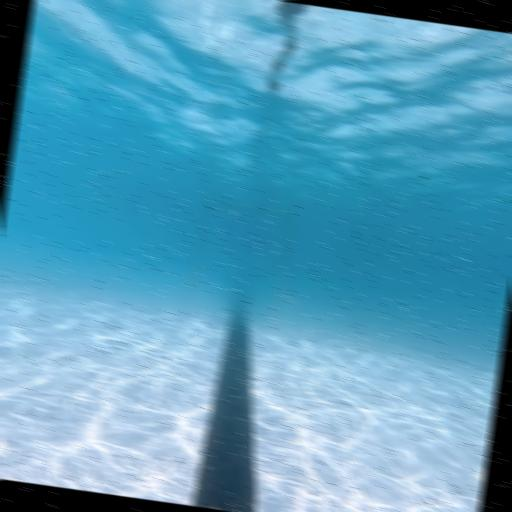gate: (185, 198, 295, 330)
